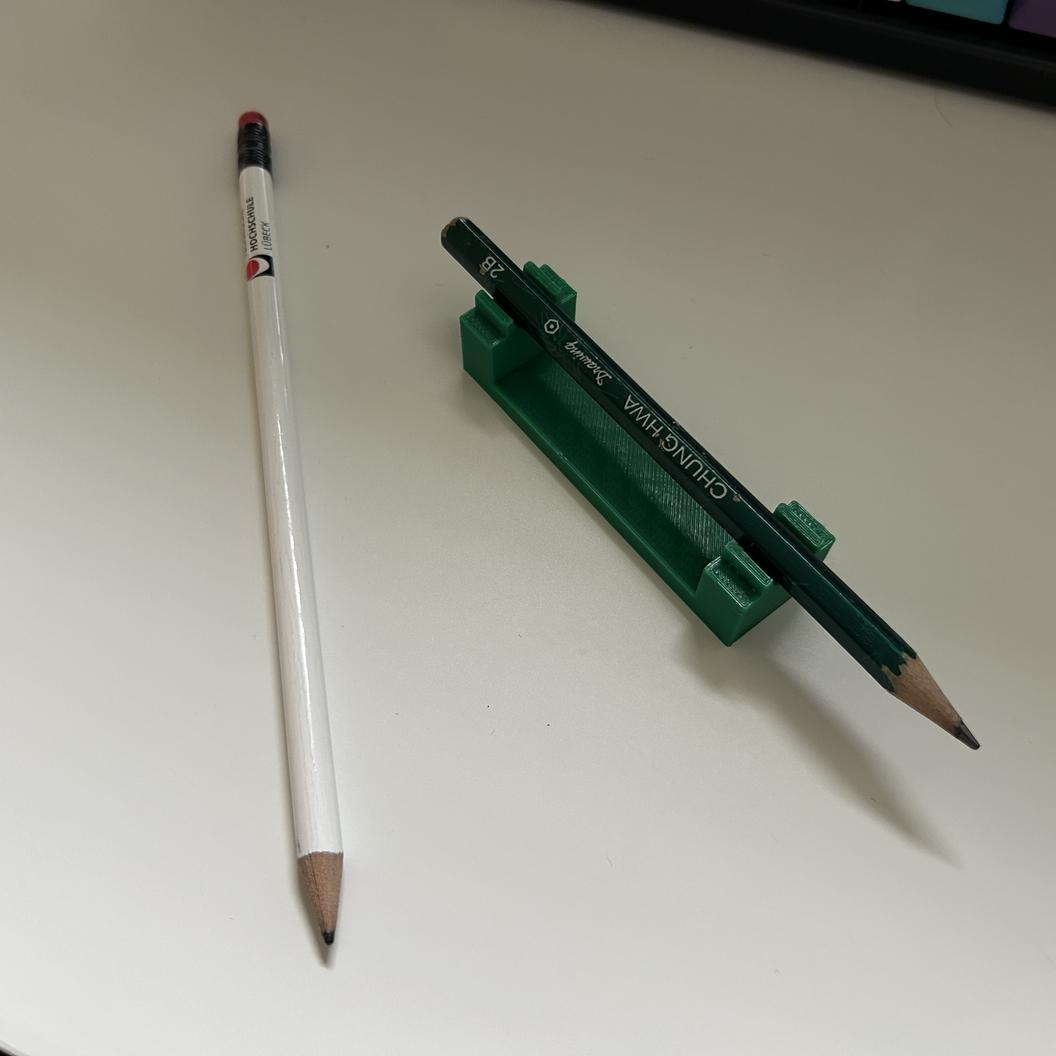X: (439, 216, 981, 749)
holder: (458, 261, 836, 647)
pencil: (437, 214, 981, 748), (234, 109, 345, 946)
